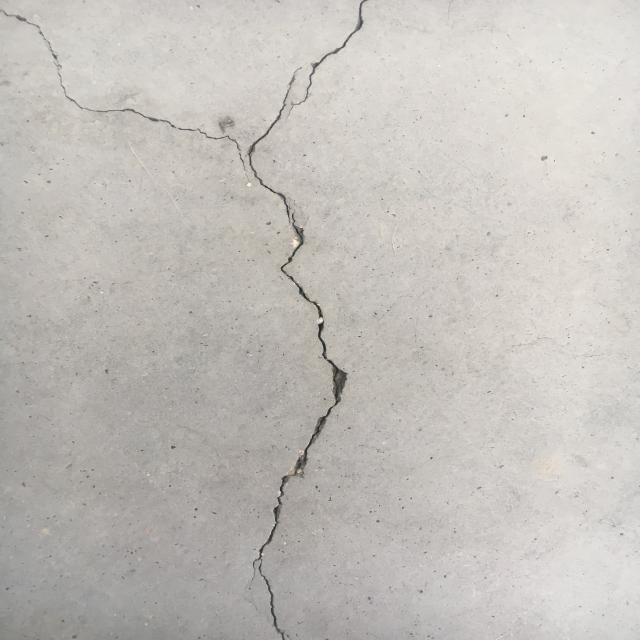Rachadura: (0, 0, 374, 640)
